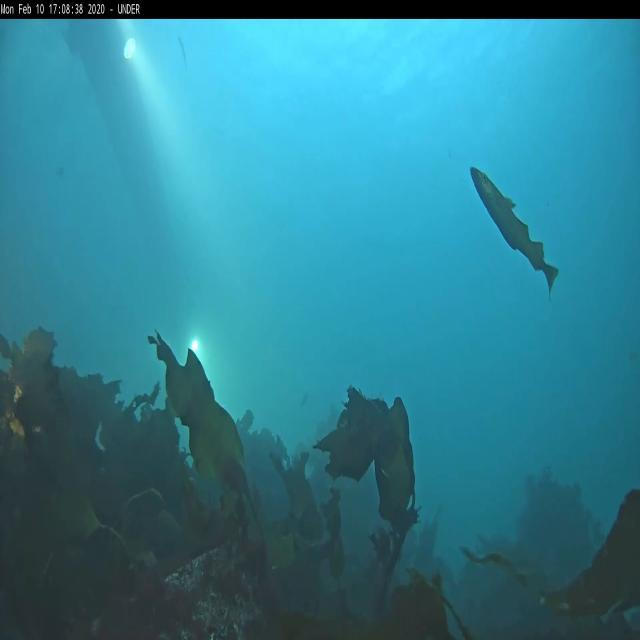fish: (469, 164, 559, 299)
